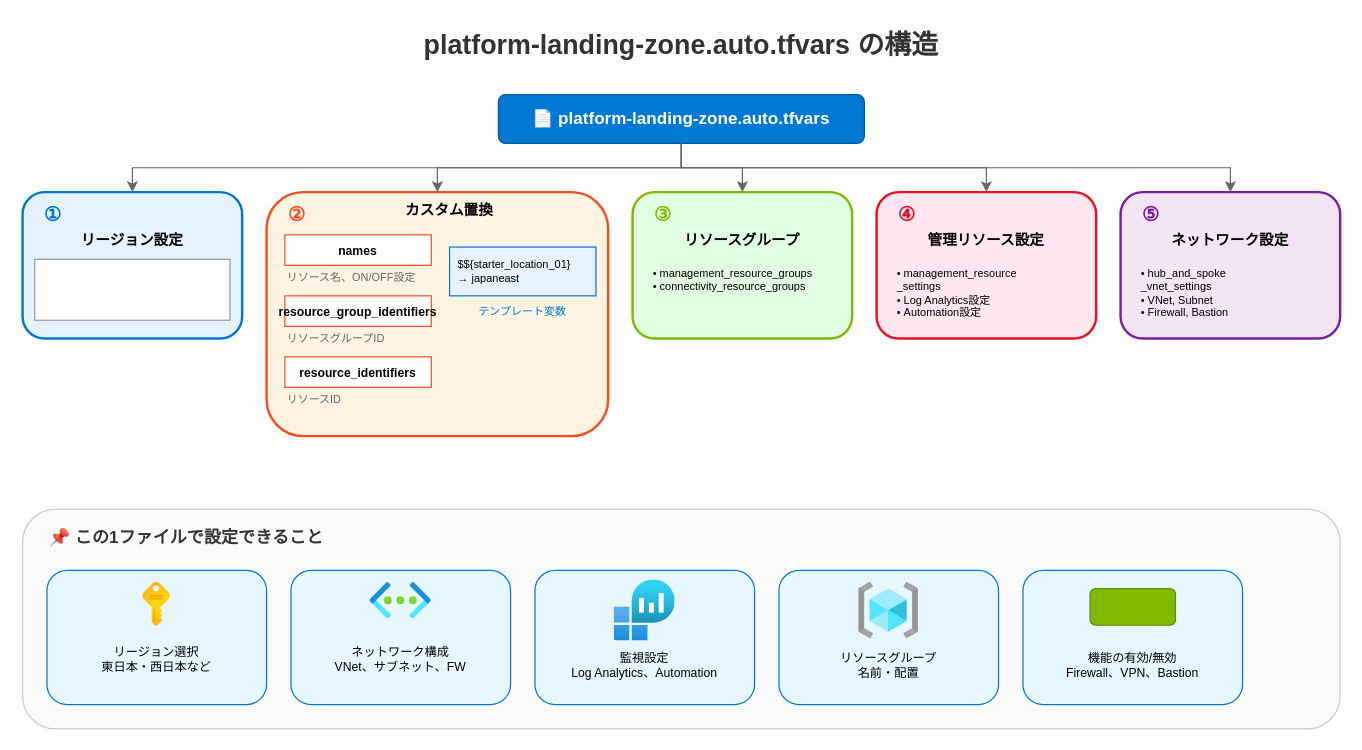
The diagram is 1362 pixels wide and 750 high, and some of its shapes have lost their labels. The shapes that lost their labels are listed below. From the top down, each one's centre as x and y in pixels, then its label:
(132,289): starter_locations = ["japaneast", "japanwest"]
(1132,606): ON/OFF
